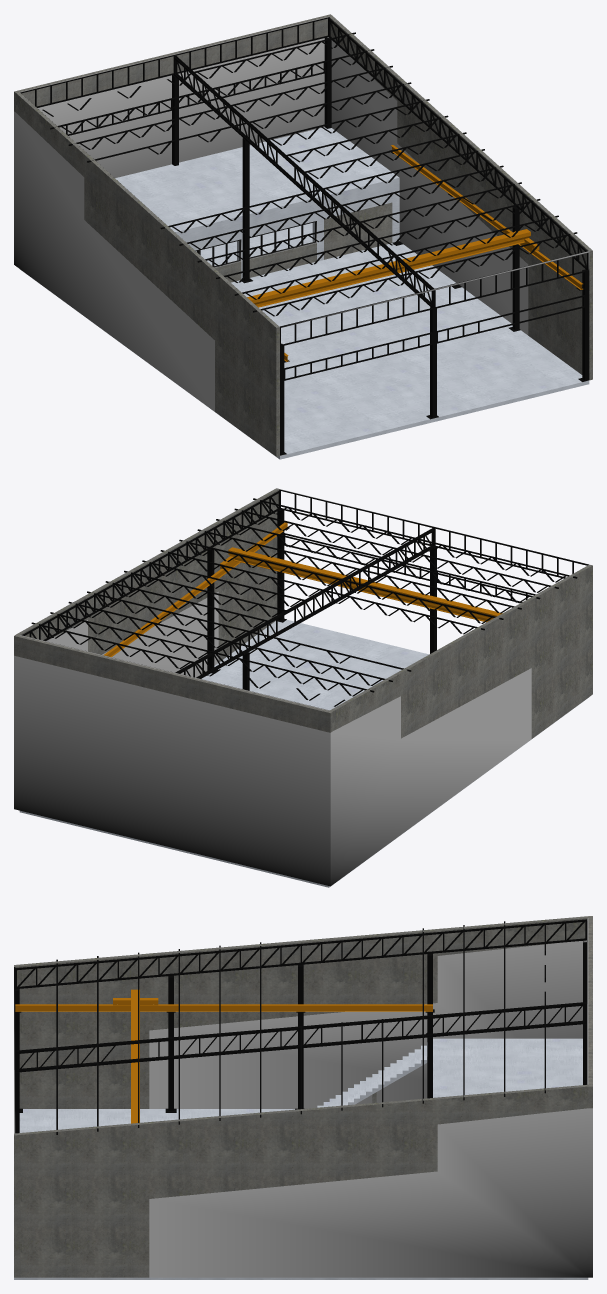
Rendered from Factory.dae.
The picture shows the model from 3 angles, top to bottom: view 1: azimuth 30°, elevation 25°; view 2: azimuth 150°, elevation 25°; view 3: azimuth 270°, elevation 25°; orthographic projection. The views are drawn at different scales.
Visible parts, largest first — view 1: node; view 2: node; view 3: node.
Boxes of the visible parts, x1,y1,x2,y2 form: node: (14, 14, 592, 459); node: (14, 488, 592, 887); node: (14, 916, 592, 1279).
Size of the model in its own units: 18.3 by 9.56 by 25.7.
